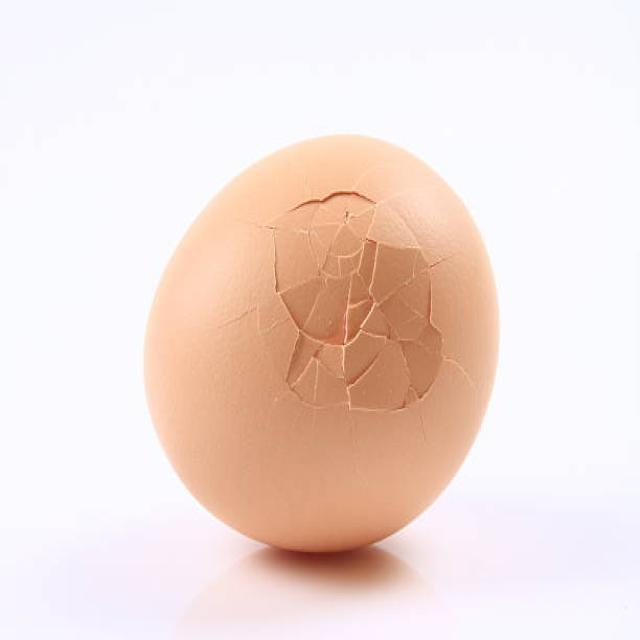Crack: (230, 174, 474, 448)
Egg: (136, 94, 516, 571)
